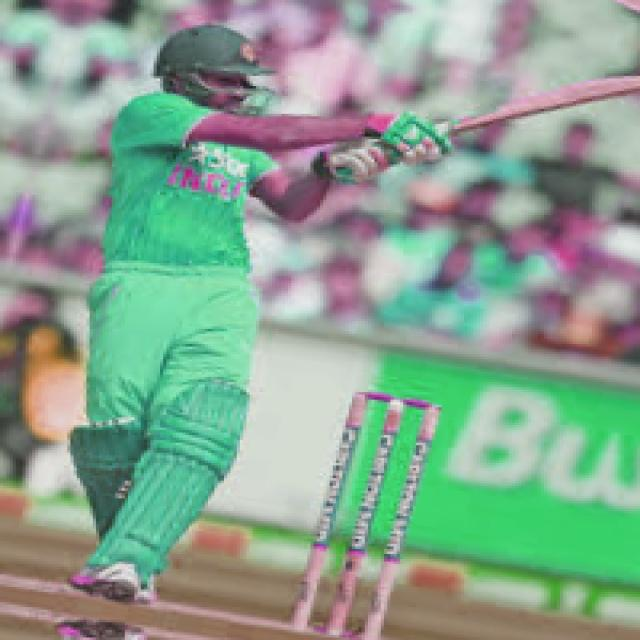toe: (625, 72, 640, 101)
